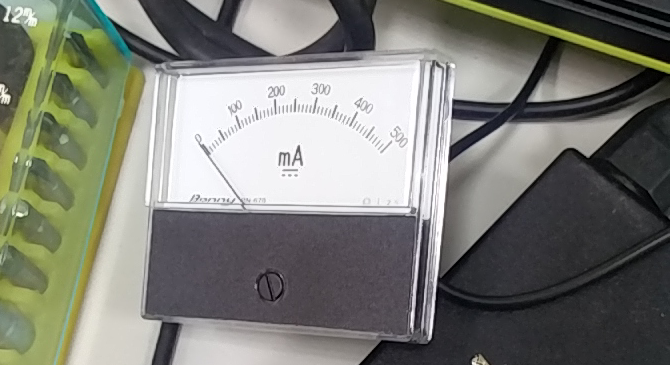MilliAmp_Meter: (149, 60, 445, 213)
